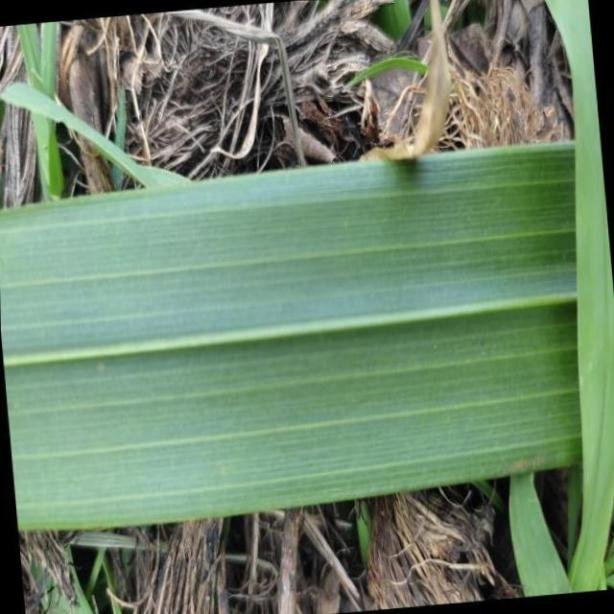Healthy: (0, 141, 614, 537)
